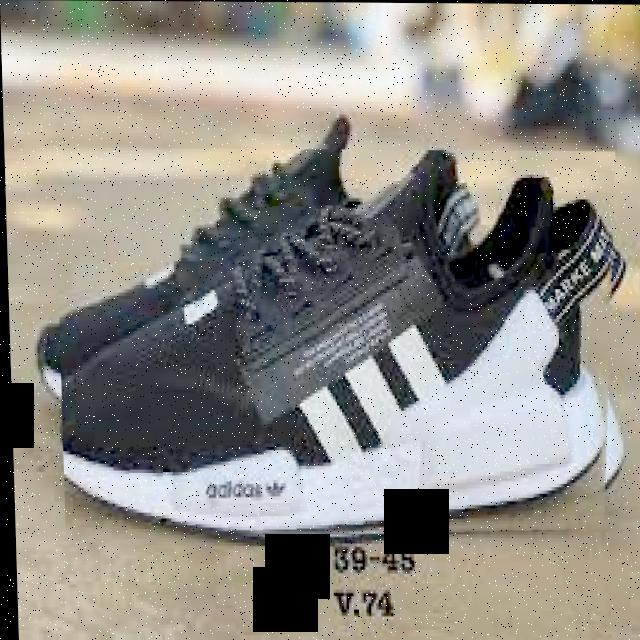shoe: (53, 147, 625, 545)
